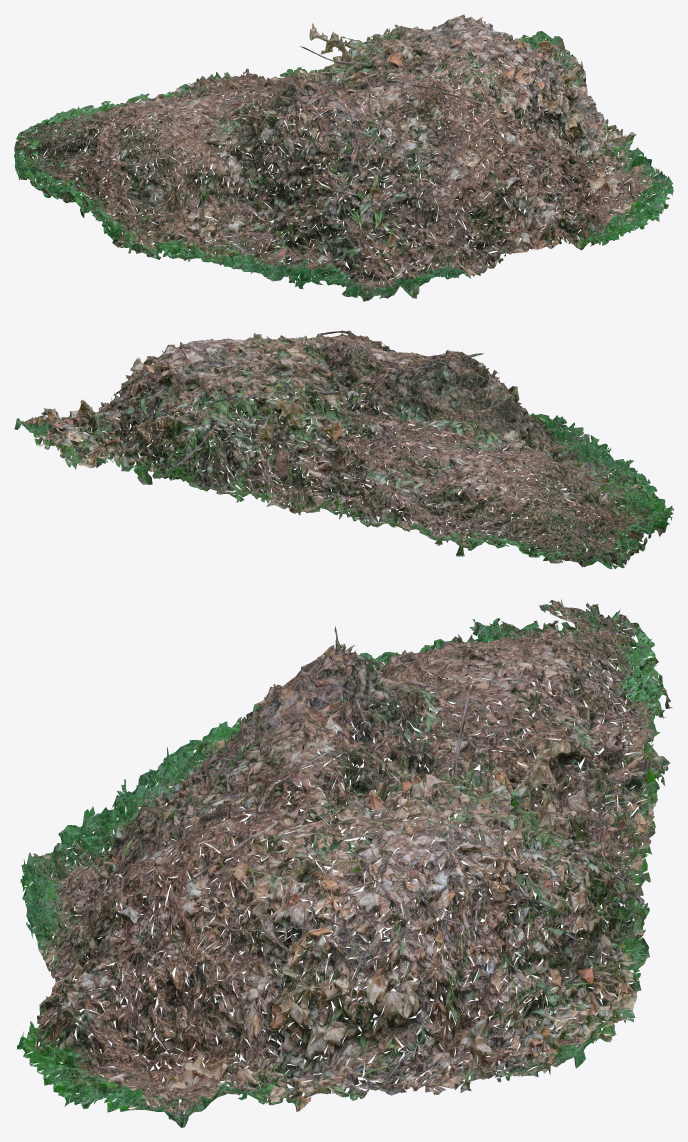
File: brush-pile.glb
3 renders of one model, top to bottom at view 1: azimuth 30°, elevation 25°; view 2: azimuth 150°, elevation 25°; view 3: azimuth 270°, elevation 25°, orthographic. The views are drawn at different scales.
Parts seen in each view (by area): view 1: Model_material0_0, Model_material3_0, Model_material2_0, Model_material1_0; view 2: Model_material2_0, Model_material3_0, Model_material0_0, Model_material1_0; view 3: Model_material1_0, Model_material3_0, Model_material2_0, Model_material0_0.
Boxes of the visible parts, x1,y1,x2,y2 form: Model_material0_0: (15,14,672,298); Model_material3_0: (14,16,672,300); Model_material2_0: (14,14,673,297); Model_material1_0: (15,16,673,301); Model_material2_0: (22,333,671,569); Model_material3_0: (21,330,673,569); Model_material0_0: (21,331,673,567); Model_material1_0: (14,330,671,563); Model_material1_0: (22,600,672,1127); Model_material3_0: (16,599,670,1121); Model_material2_0: (22,604,670,1117); Model_material0_0: (17,601,669,1121).
Size of the model in its own units: 4.3 by 1.19 by 2.76.
Materials: 4 (4 with a texture image).
